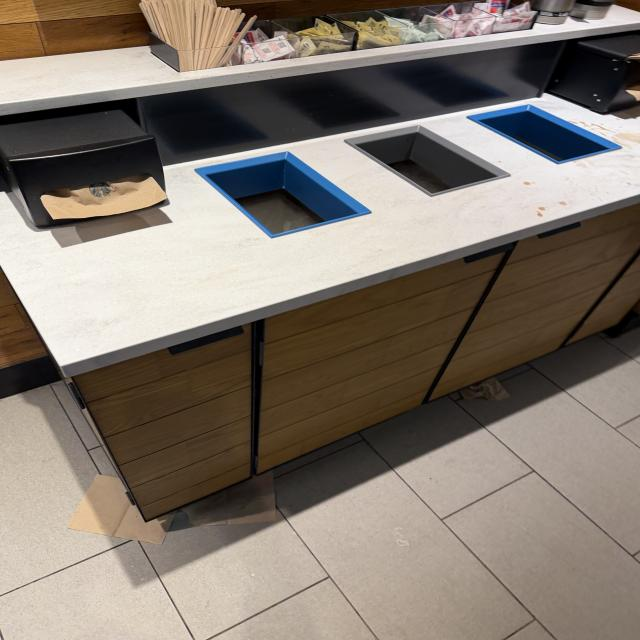Dustbin: (1, 63, 640, 526)
